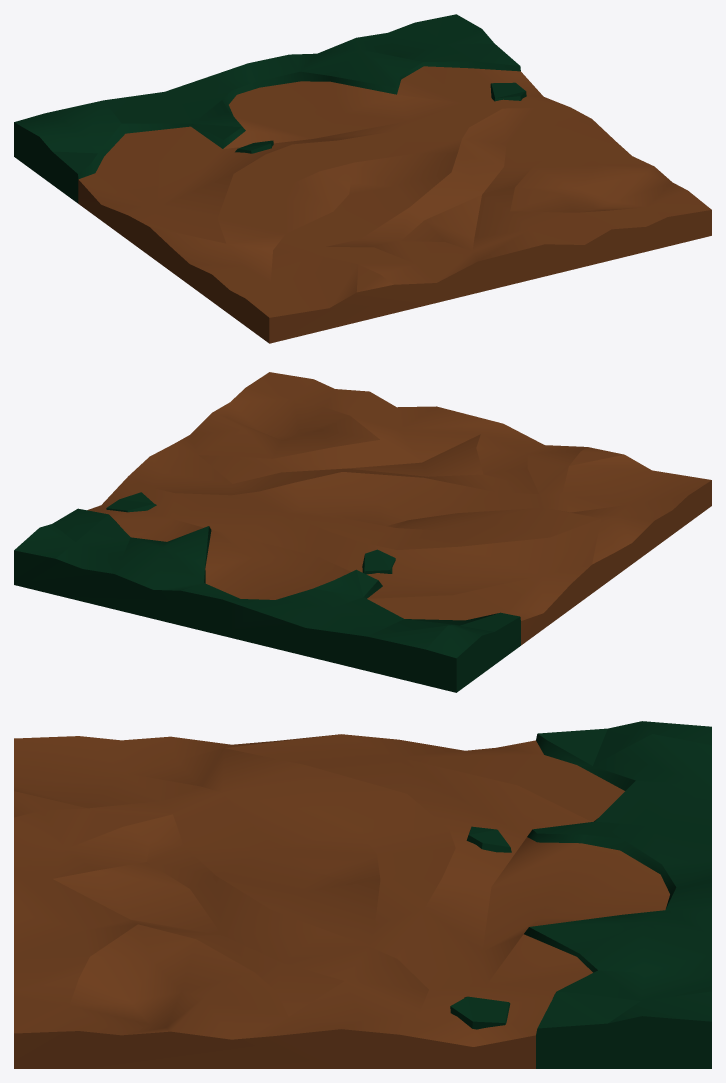
File: Ground_Edge_U_1.fbx
3 views of the same model, one above another, from view 1: azimuth 30°, elevation 25°; view 2: azimuth 150°, elevation 25°; view 3: azimuth 270°, elevation 25° (orthographic). The views are drawn at different scales.
Visible parts, largest first — view 1: Ground_Edge_U_1; view 2: Ground_Edge_U_1; view 3: Ground_Edge_U_1.
Part boxes in pixels (bbox=[...]): Ground_Edge_U_1: bbox=[14, 14, 711, 343]; Ground_Edge_U_1: bbox=[14, 372, 711, 692]; Ground_Edge_U_1: bbox=[14, 721, 711, 1068].
Size of the model in its own units: 147 by 15.12 by 147.
